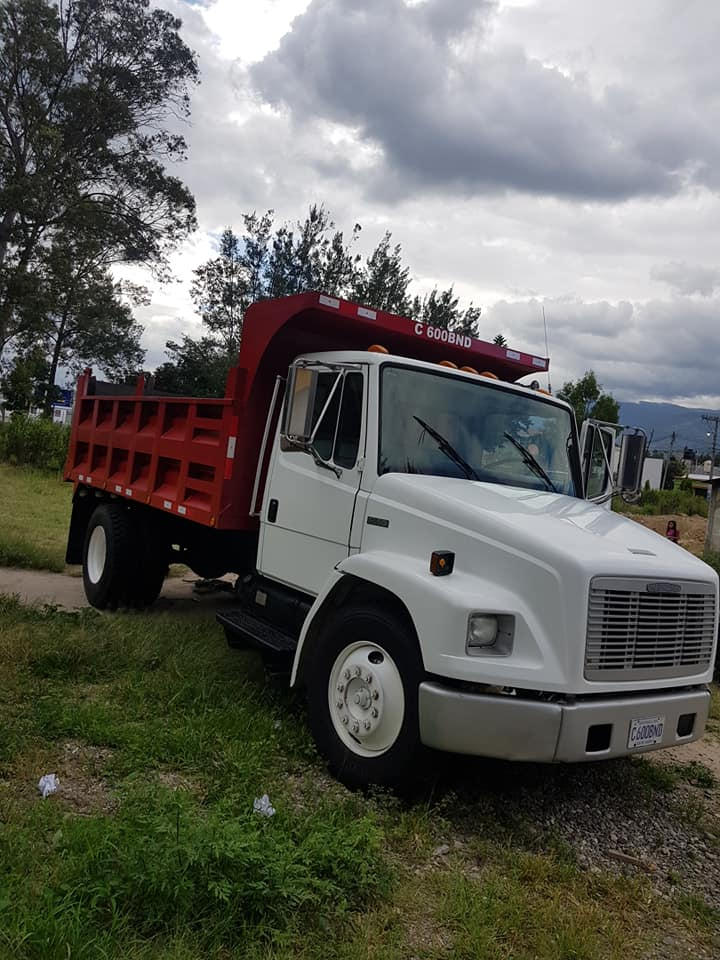camion: (65, 287, 719, 797)
